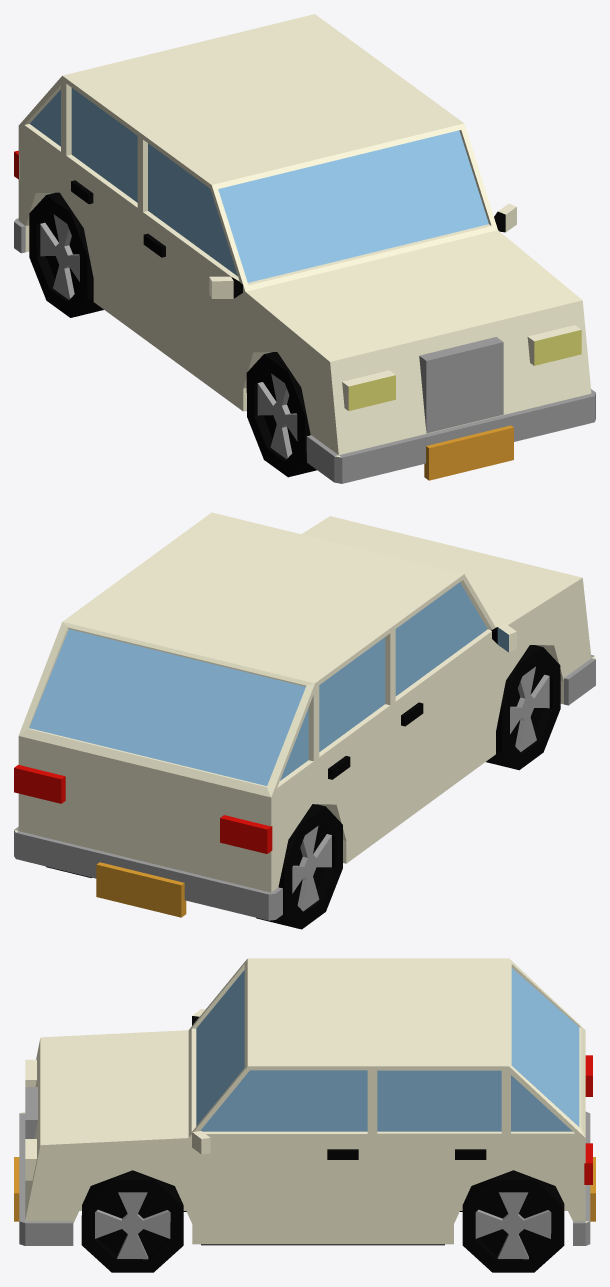
The model's file is hatchback.glb.
3 renders of one model, top to bottom at view 1: azimuth 30°, elevation 25°; view 2: azimuth 150°, elevation 25°; view 3: azimuth 270°, elevation 25°, orthographic. The views are drawn at different scales.
Visible parts, largest first — view 1: Car, Wheels; view 2: Car, Wheels; view 3: Car, Wheels.
Part boxes in pixels (box(x1,y1,x2,y2)): Car: box(14, 14, 595, 483); Wheels: box(29, 192, 316, 477); Car: box(14, 512, 595, 920); Wheels: box(46, 645, 560, 929); Car: box(14, 958, 595, 1245); Wheels: box(81, 1170, 564, 1272).
Bounding box in the file's own units: 2.2 × 1.62 × 4.15.
